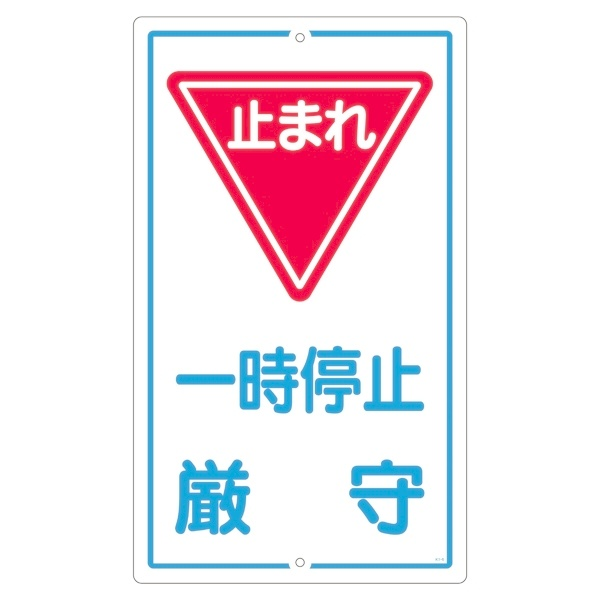Regulatory_sign_triangle: (166, 62, 437, 305)
